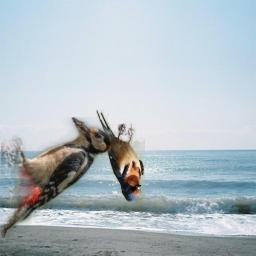Swallow: (96, 109, 145, 203)
Woodpecker: (1, 117, 111, 238)
